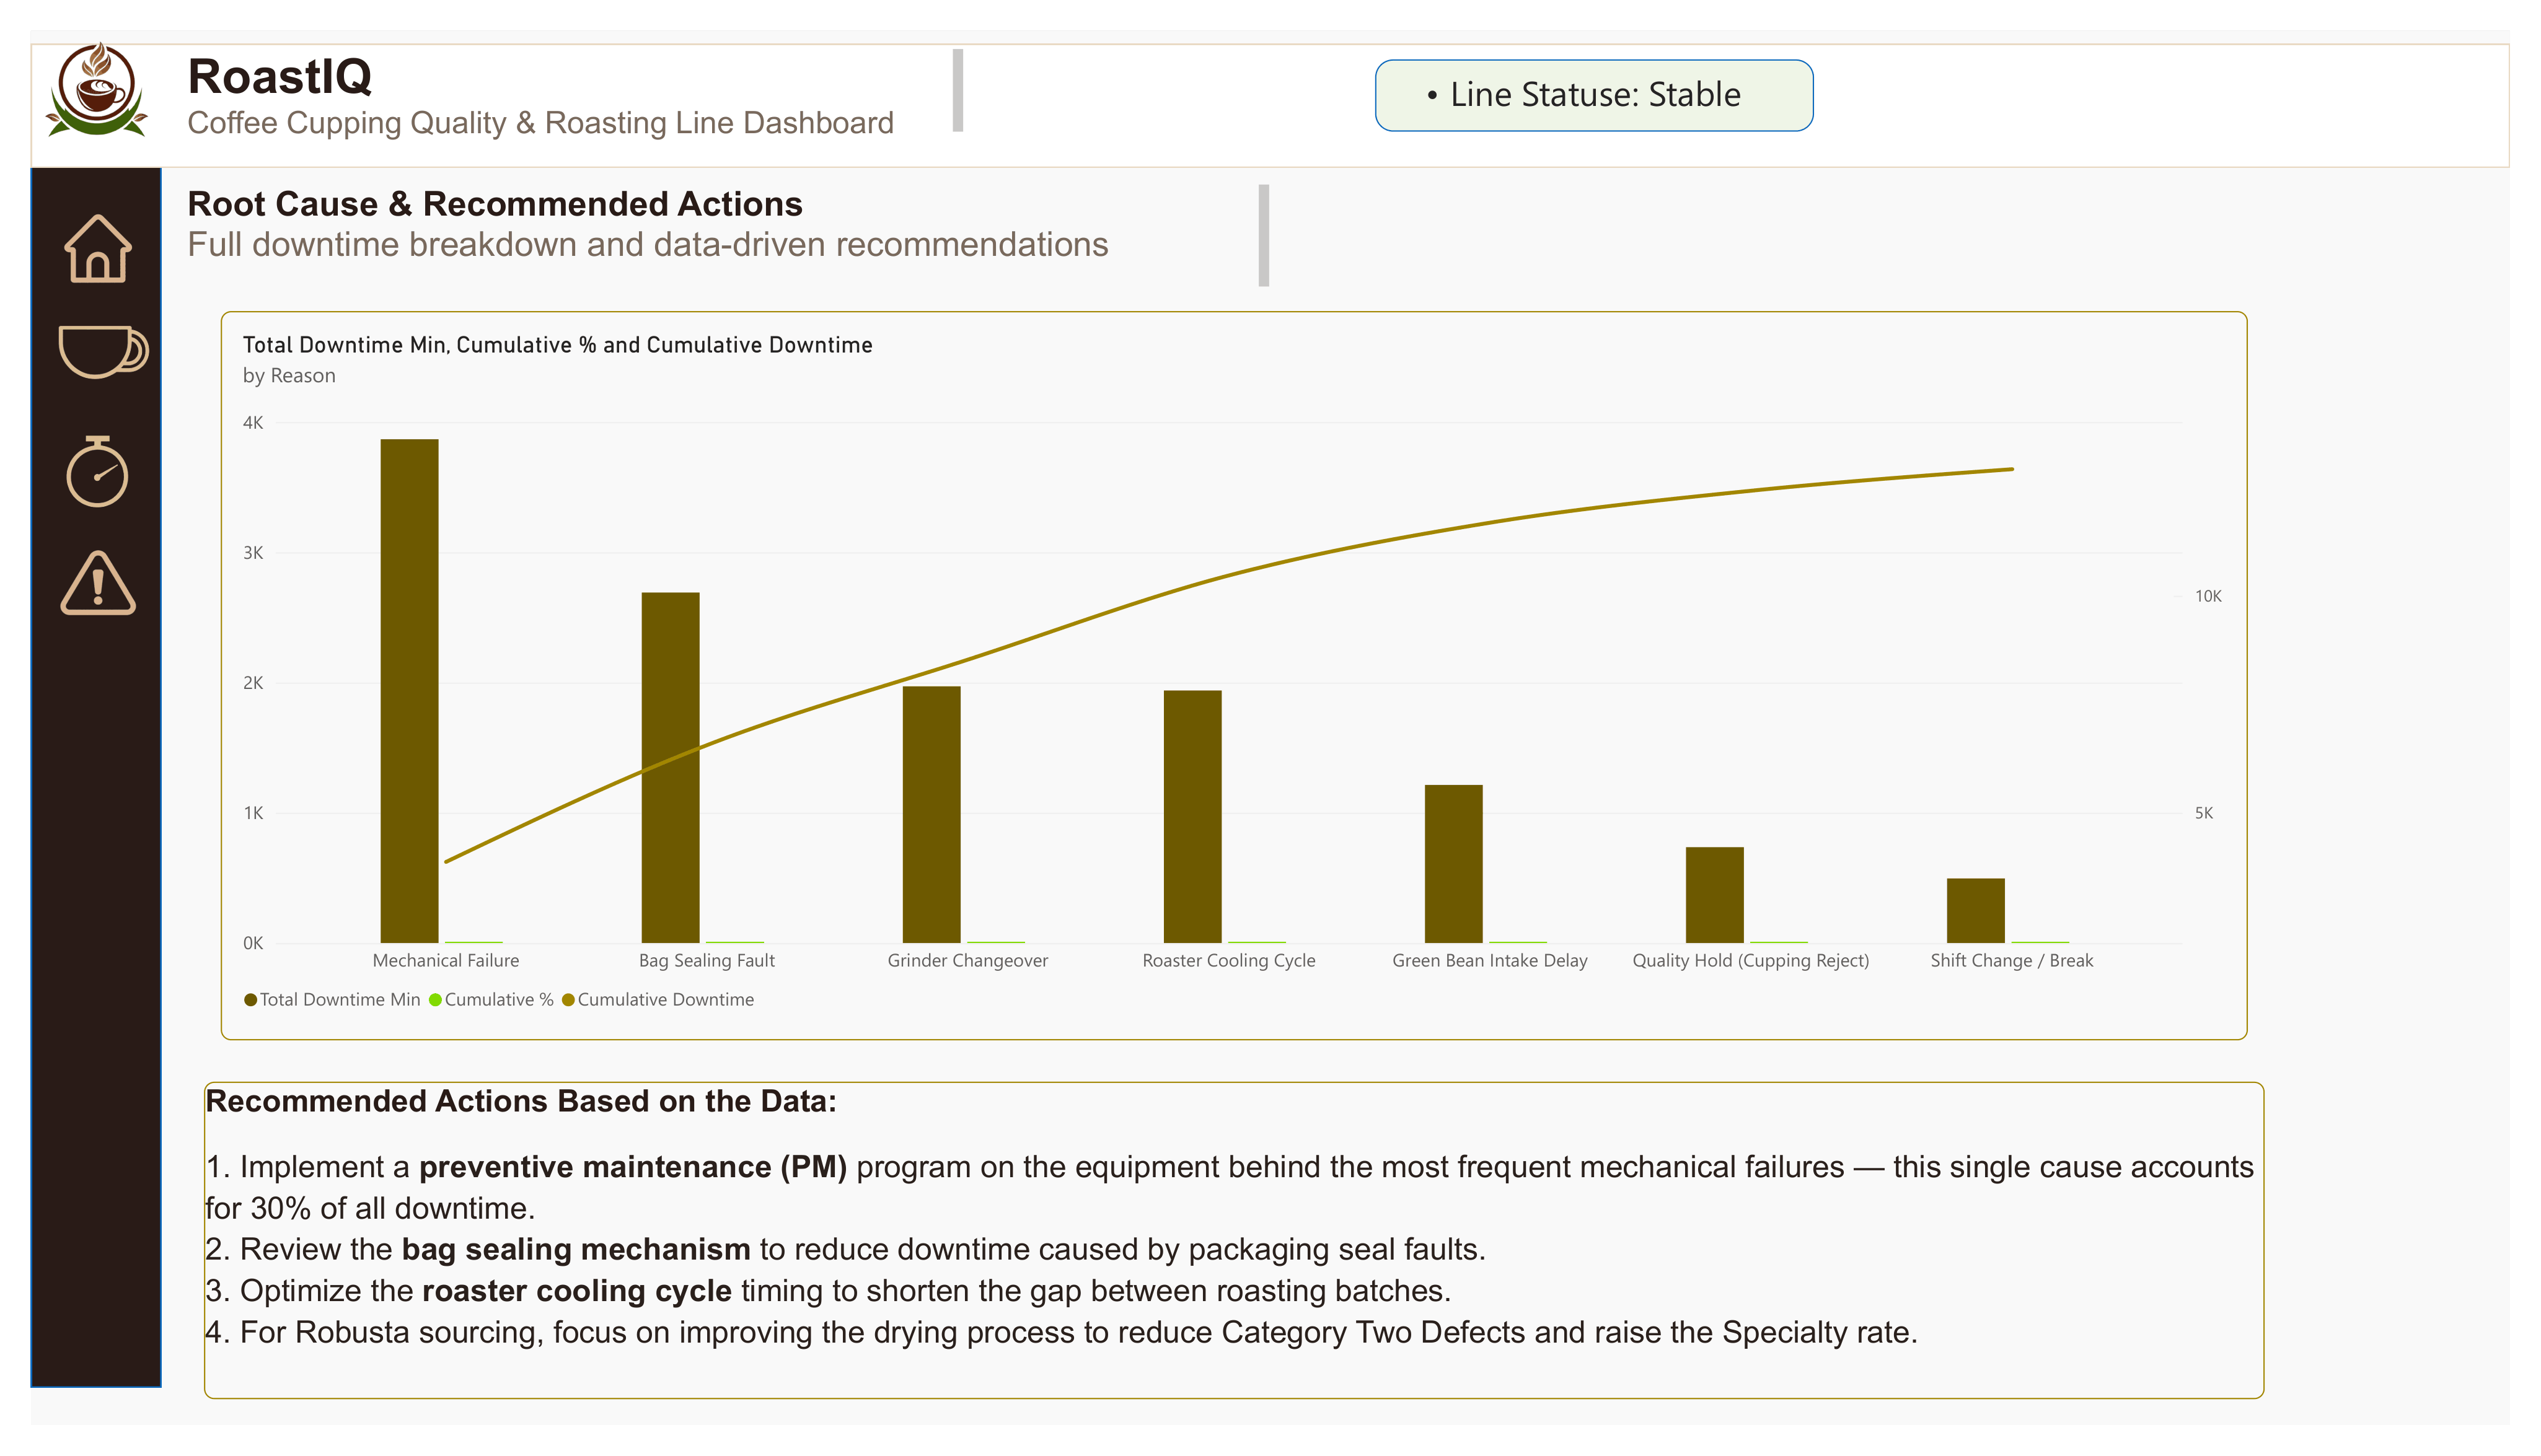

The page's visual inventory and layout, read from the dashboard file:
{"tool":"powerbi","page":{"name":"Root Cause","canvas":[1920,1080],"ordinal":3},"visuals":[{"type":"textbox","box":[121.2,119.4,837.9,79.6],"z":0},{"type":"shape","box":[0,77.8,101,973.6],"z":1000},{"type":"image","box":[12.7,139.3,79.6,59.7],"z":2000},{"type":"image","box":[3.6,309.5,99.5,63.3],"z":3000},{"type":"image","box":[16.3,398.1,70.6,58],"z":4000},{"type":"image","box":[14.5,217.2,81.4,61],"z":5000},{"type":"textbox","box":[133.9,814.3,1596.1,246.1],"z":6000},{"type":"shape","box":[0,10,1920.1,95.9],"z":7000},{"type":"image","box":[2.1,0,97.7,90.5],"z":8000},{"type":"textbox","box":[121.2,14.5,600.8,76],"z":9000},{"type":"shape","box":[1040.8,21.6,340.2,56.1],"z":10000},{"type":"textbox","box":[1058.9,28.8,289.5,49],"z":11000},{"type":"lineClusteredColumnComboChart","fields":{"Category":["Fact_Downtime.Reason"],"Y":["Fact_Downtime.Total Downtime Min","Fact_Downtime.Cumulative %"],"Y2":["Fact_Downtime.Cumulative Downtime"]},"box":[146.6,217.2,1570.8,564.6],"z":12000}]}

Visuals, with their boxes on the page's 1920x1080 design canvas (x1, y1, x2, y2). These are canvas units, not pixel positions in the 2541x1456 screenshot, which may show the page scaled, cropped or inside an application window:
textbox: l=121, t=119, r=959, b=199
shape: l=0, t=78, r=101, b=1051
image: l=13, t=139, r=92, b=199
image: l=4, t=310, r=103, b=373
image: l=16, t=398, r=87, b=456
image: l=14, t=217, r=96, b=278
textbox: l=134, t=814, r=1730, b=1060
shape: l=0, t=10, r=1920, b=106
image: l=2, t=0, r=100, b=90
textbox: l=121, t=14, r=722, b=90
shape: l=1041, t=22, r=1381, b=78
textbox: l=1059, t=29, r=1348, b=78
lineClusteredColumnComboChart - Fact_Downtime.Reason x Fact_Downtime.Total Downtime Min: l=147, t=217, r=1717, b=782
